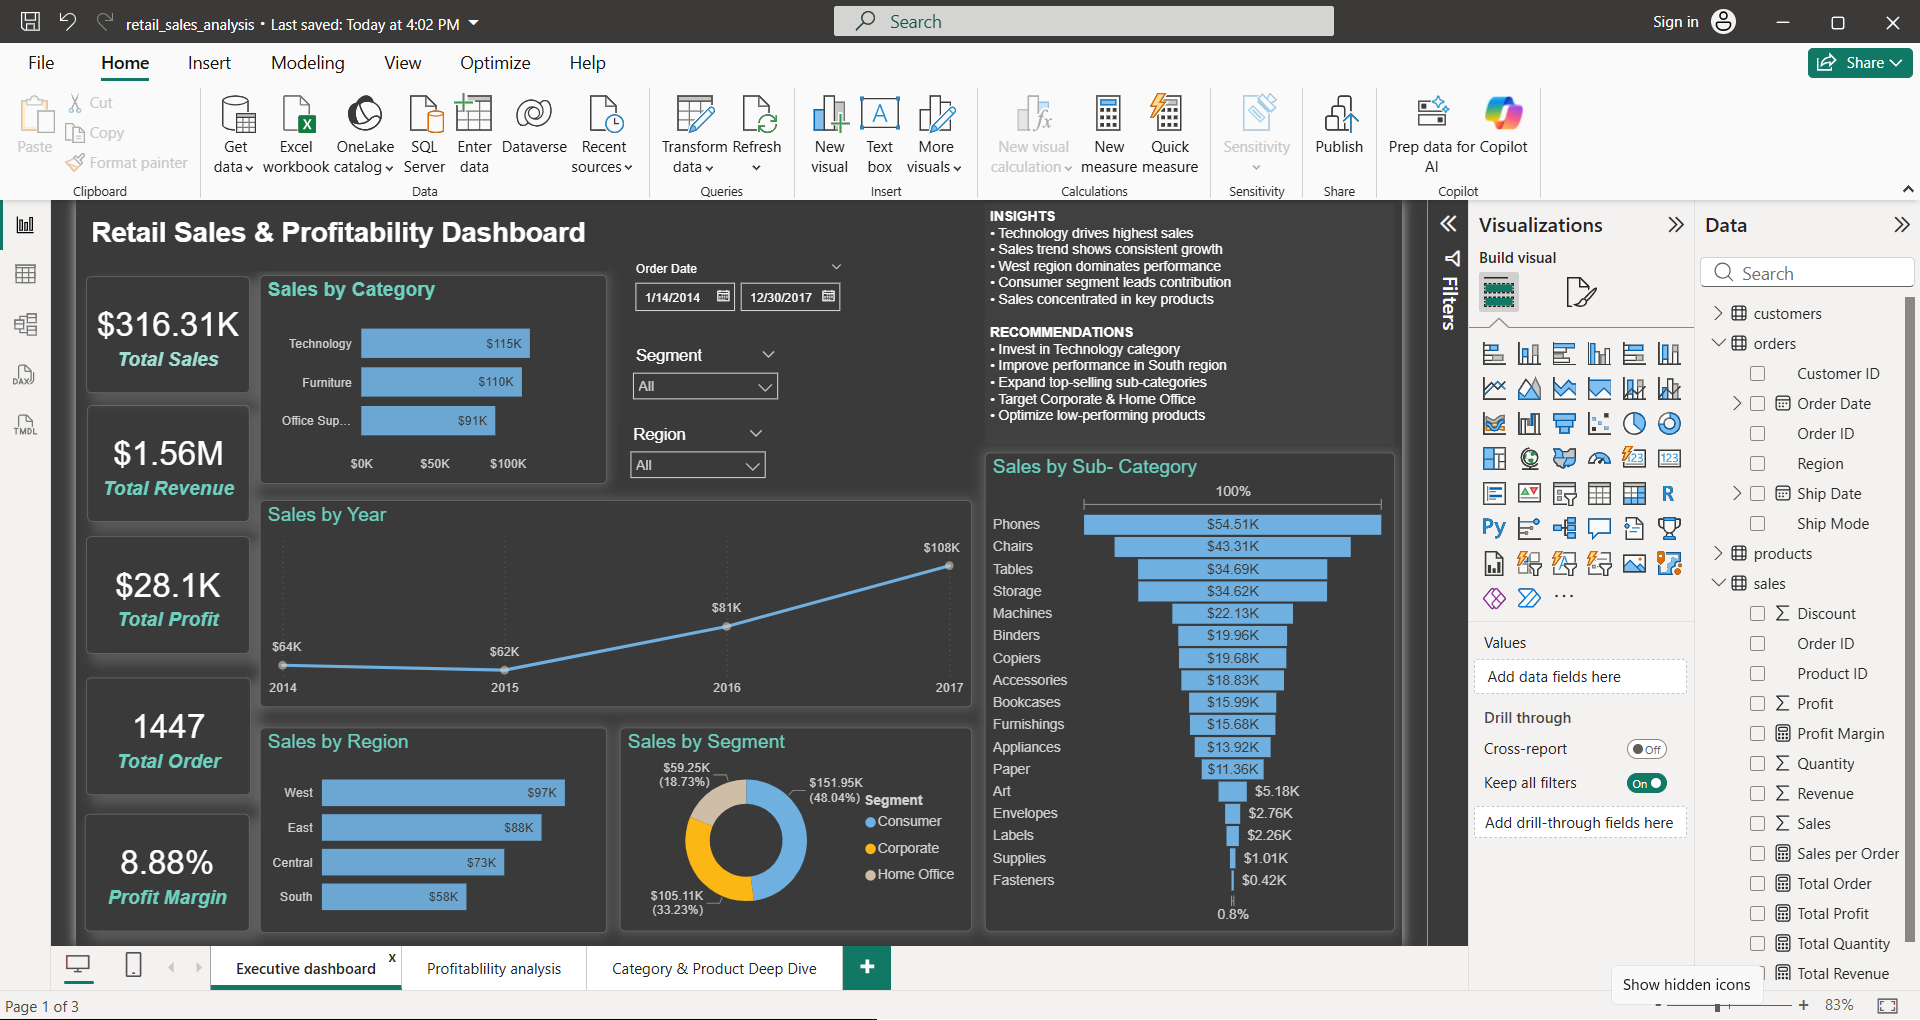

Layout of this report page (visuals, bound fields, positions):
{"tool":"powerbi","page":{"name":"Executive dashboard","canvas":[1280,720],"ordinal":0},"visuals":[{"type":"card","fields":{"Values":["sales.Total Revenue"]},"box":[10.9,197.9,156.8,113],"z":0},{"type":"card","fields":{"Values":["sales.Total Sales"]},"box":[9.7,73.6,158,113],"z":1000},{"type":"card","fields":{"Values":["sales.Total Profit"]},"box":[9.7,324.5,158,113.4],"z":2000},{"type":"card","fields":{"Values":["sales.Profit Margin"]},"box":[8.4,592.4,159.3,113.4],"z":4000},{"type":"card","fields":{"Values":["sales.Total Order"]},"box":[9.7,460.9,159.3,113.4],"z":5000},{"type":"clusteredBarChart","title":"Sales by Category","fields":{"Category":["products.Category"],"Y":["sales.Total Sales"]},"box":[177.5,72.5,335,201.2],"z":6000},{"type":"funnel","title":"Sales by Sub- Category","fields":{"Category":["products.Sub- Category"],"Y":["sales.Total Sales"]},"box":[877.1,243.7,395.7,462.1],"z":7000},{"type":"donutChart","title":"Sales by Segment","fields":{"Category":["customers.Segment"],"Y":["sales.Total Sales"]},"box":[524.8,509.1,340,197],"z":8000},{"type":"lineChart","title":"Sales by Year","fields":{"Category":["orders.Order Date.Variation.Date Hierarchy.Year","orders.Order Date.Variation.Date Hierarchy.Month"],"Y":["sales.Total Sales"]},"box":[177.5,290,687.5,200],"z":9000},{"type":"barChart","title":"Sales by Region","fields":{"Category":["orders.Region"],"Y":["sales.Total Sales"]},"box":[177.5,508.8,335,198.8],"z":10000},{"type":"slicer","fields":{"Values":["orders.Region"]},"box":[524.8,212.3,150.8,61.5],"z":11000},{"type":"slicer","fields":{"Values":["customers.Segment"]},"box":[527.2,136.3,160.5,61.5],"z":13000},{"type":"textbox","box":[9.7,12.1,503.1,56.7],"z":14000},{"type":"textbox","box":[877.5,3.8,395,231.2],"z":15000},{"type":"slicer","fields":{"Values":["orders.Order Date"]},"box":[527.2,54.3,224.4,66.4],"z":15001}]}

Visuals, with their boxes on the page's 1280x720 design canvas (x1, y1, x2, y2). These are canvas units, not pixel positions in the 1920x1020 screenshot, which may show the page scaled, cropped or inside an application window:
card - sales.Total Revenue: [x1=11, y1=198, x2=168, y2=311]
card - sales.Total Sales: [x1=10, y1=74, x2=168, y2=187]
card - sales.Total Profit: [x1=10, y1=324, x2=168, y2=438]
card - sales.Profit Margin: [x1=8, y1=592, x2=168, y2=706]
card - sales.Total Order: [x1=10, y1=461, x2=169, y2=574]
"Sales by Category" clusteredBarChart: [x1=178, y1=72, x2=512, y2=274]
"Sales by Sub- Category" funnel: [x1=877, y1=244, x2=1273, y2=706]
"Sales by Segment" donutChart: [x1=525, y1=509, x2=865, y2=706]
"Sales by Year" lineChart: [x1=178, y1=290, x2=865, y2=490]
"Sales by Region" barChart: [x1=178, y1=509, x2=512, y2=708]
slicer - orders.Region: [x1=525, y1=212, x2=676, y2=274]
slicer - customers.Segment: [x1=527, y1=136, x2=688, y2=198]
textbox: [x1=10, y1=12, x2=513, y2=69]
textbox: [x1=878, y1=4, x2=1272, y2=235]
slicer - orders.Order Date: [x1=527, y1=54, x2=752, y2=121]
